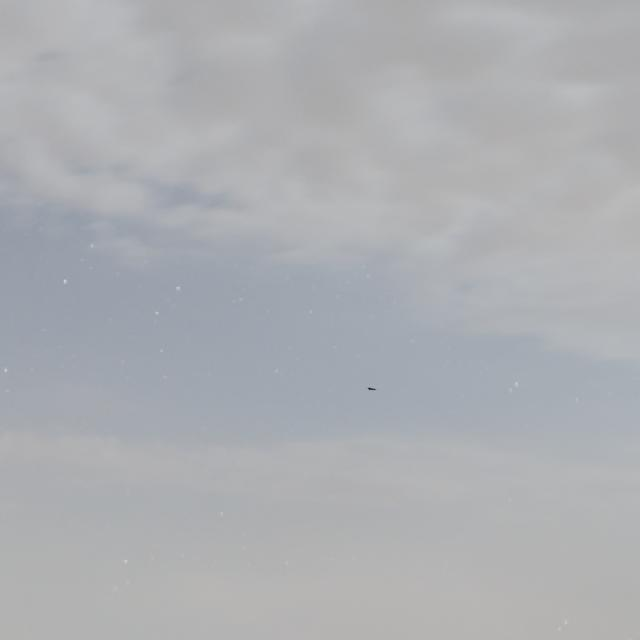Airaplan: (367, 387, 376, 390)
